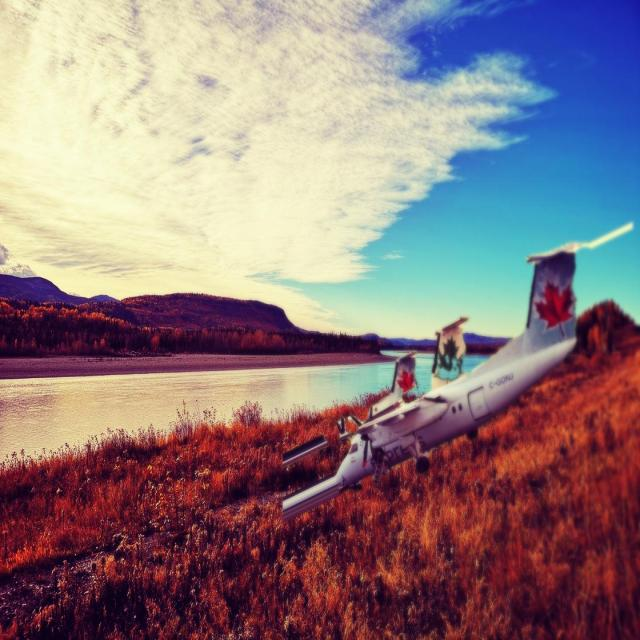airplane: (279, 220, 633, 524)
